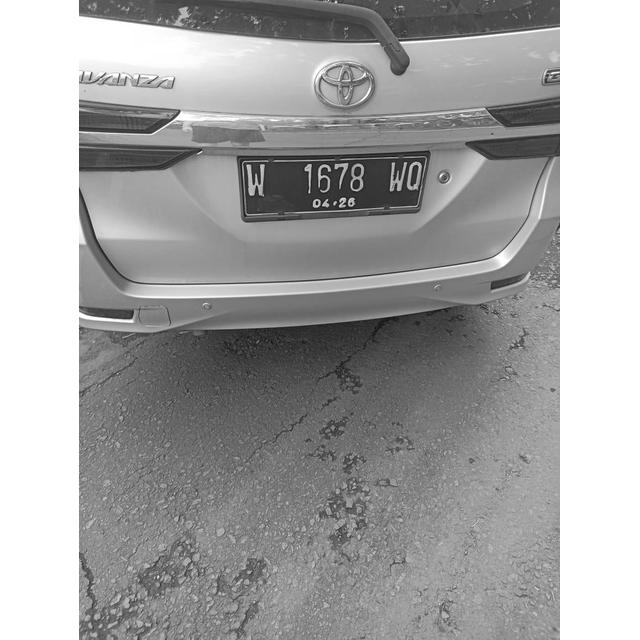license: (245, 161, 423, 209)
